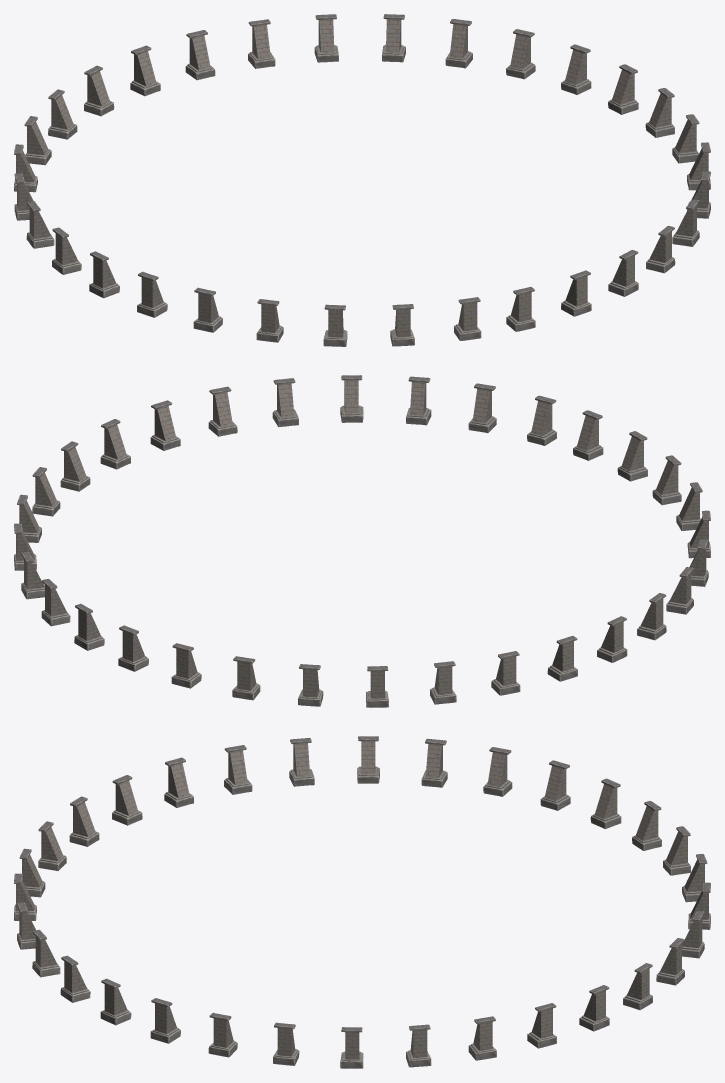
Rendered from PillarBorder.fbx.
3 renders of one model, top to bottom at view 1: azimuth 30°, elevation 25°; view 2: azimuth 150°, elevation 25°; view 3: azimuth 270°, elevation 25°, orthographic.
Parts seen in each view (by area): view 1: PillarBorder; view 2: PillarBorder; view 3: PillarBorder.
Boxes of the visible parts, x1,y1,x2,y2 form: PillarBorder: [14, 14, 710, 346]; PillarBorder: [14, 375, 710, 707]; PillarBorder: [14, 736, 710, 1068].
Size of the model in its own units: 10016 by 610 by 10015.
